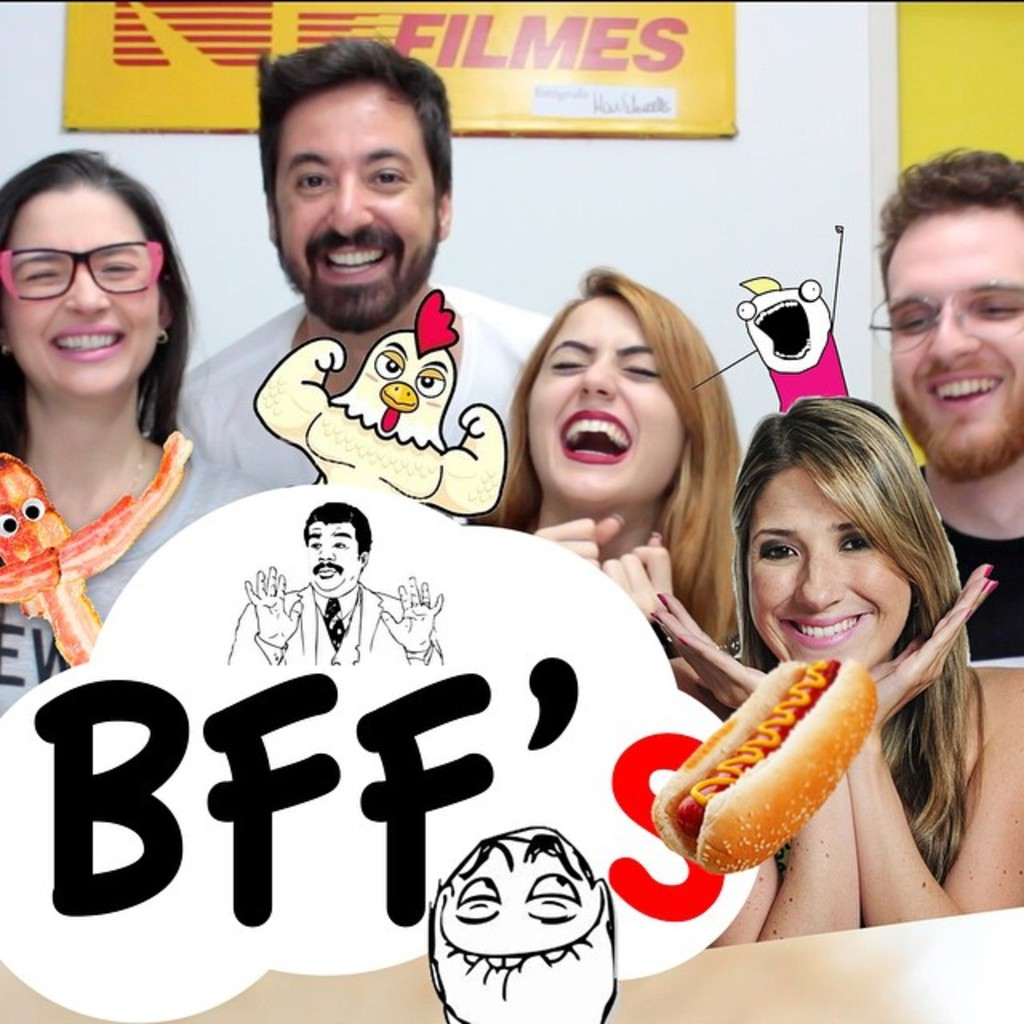hot_dog: (666, 630, 925, 872)
